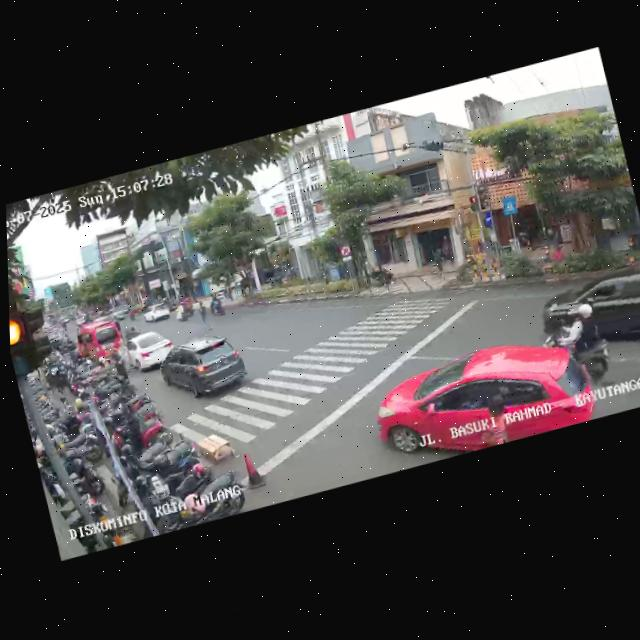car: (366, 323, 602, 473), (551, 262, 640, 375), (155, 329, 253, 410), (117, 325, 178, 378), (71, 313, 126, 368), (141, 300, 173, 327)
motorcycle: (533, 299, 615, 394), (208, 293, 227, 318)
person: (196, 300, 213, 332)
